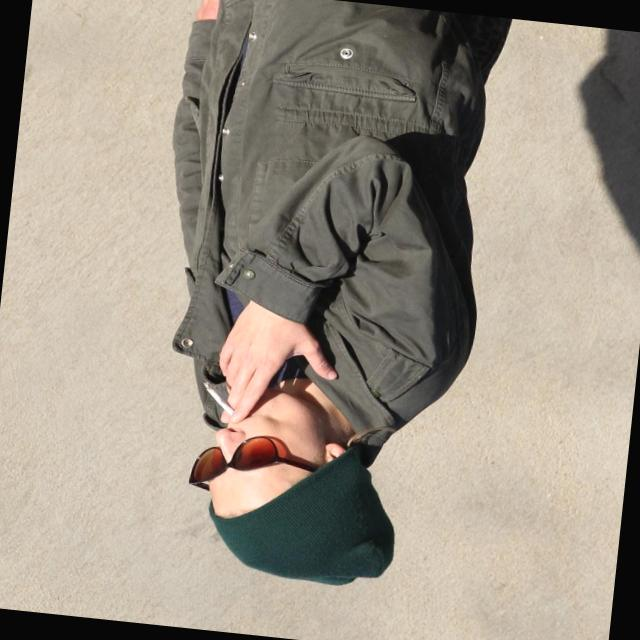smoke: (186, 367, 247, 426)
